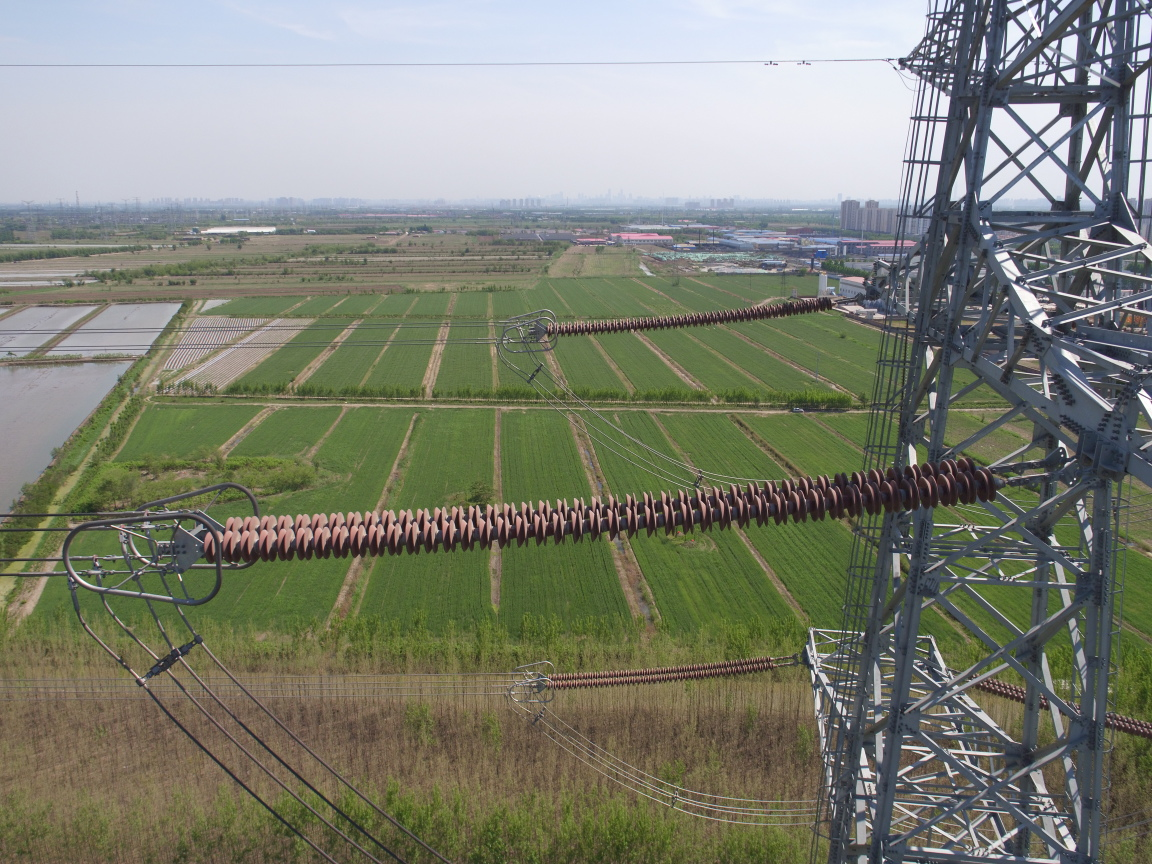insulator: (190, 452, 1023, 570), (543, 293, 844, 338)
